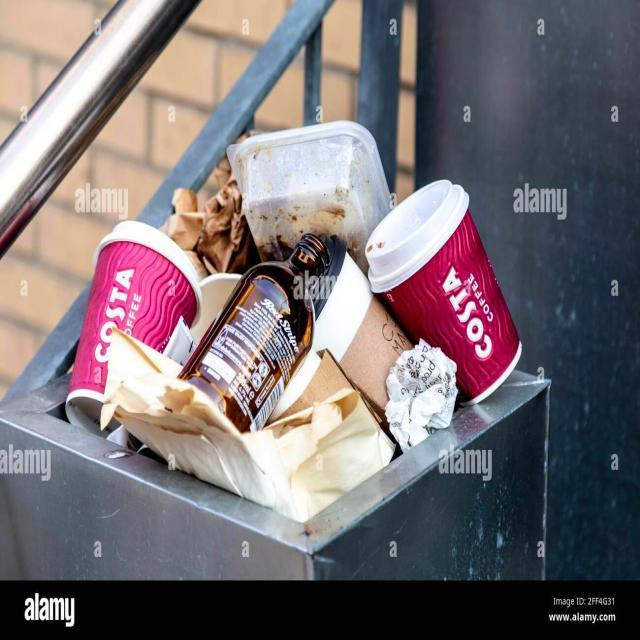Disposable: (365, 180, 521, 405), (66, 221, 201, 431), (226, 121, 391, 273)
Garbage: (65, 121, 520, 522)
Glass_bottle: (179, 233, 331, 431)
